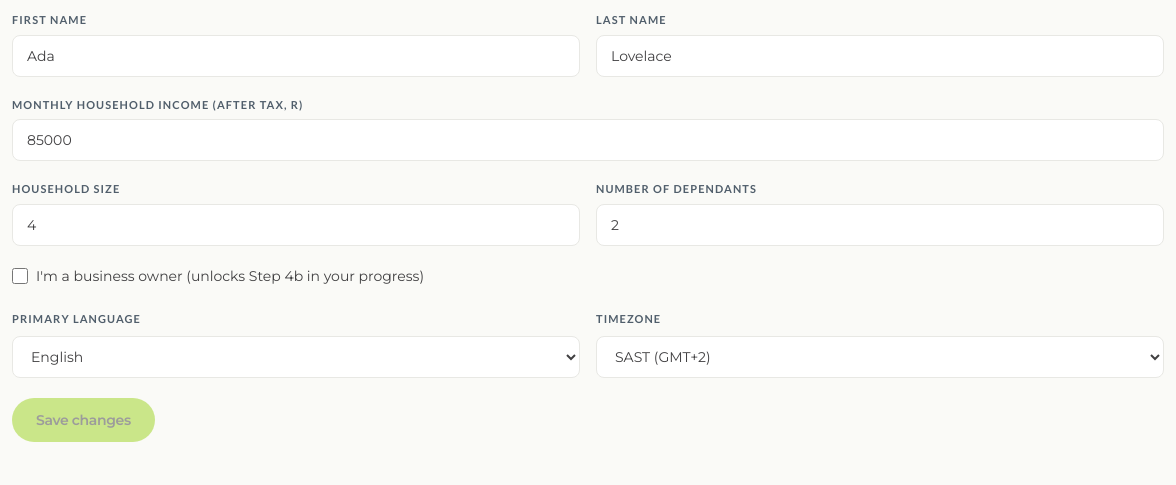
Scenario: ProfileForm › rejects an empty first_name with a validation error
Clear the field showing "Ada". click: (296, 56)
box: top-left (12, 34), bottom-right (580, 76)
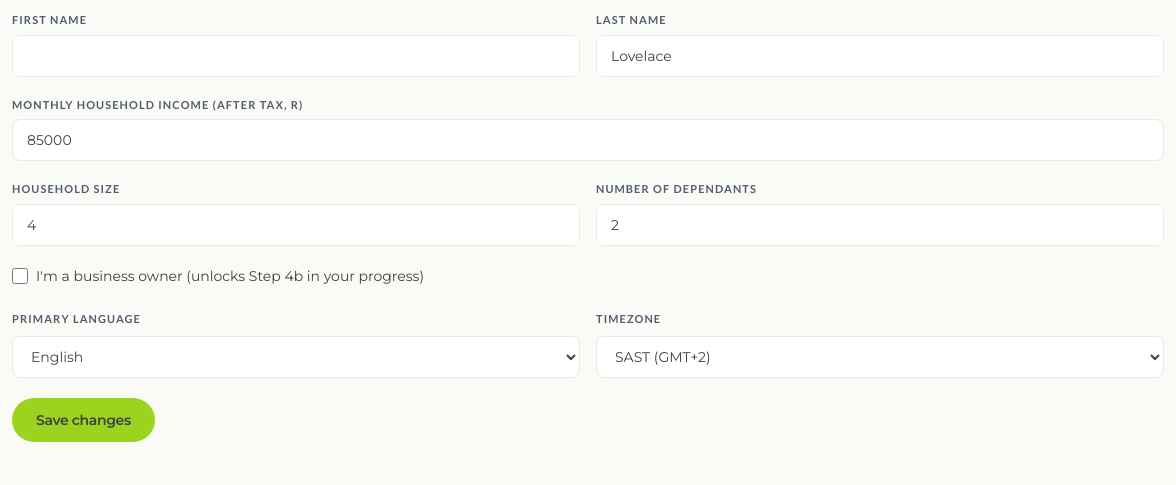
Click the button "Save changes". click: (83, 420)
box: top-left (12, 398), bottom-right (155, 442)
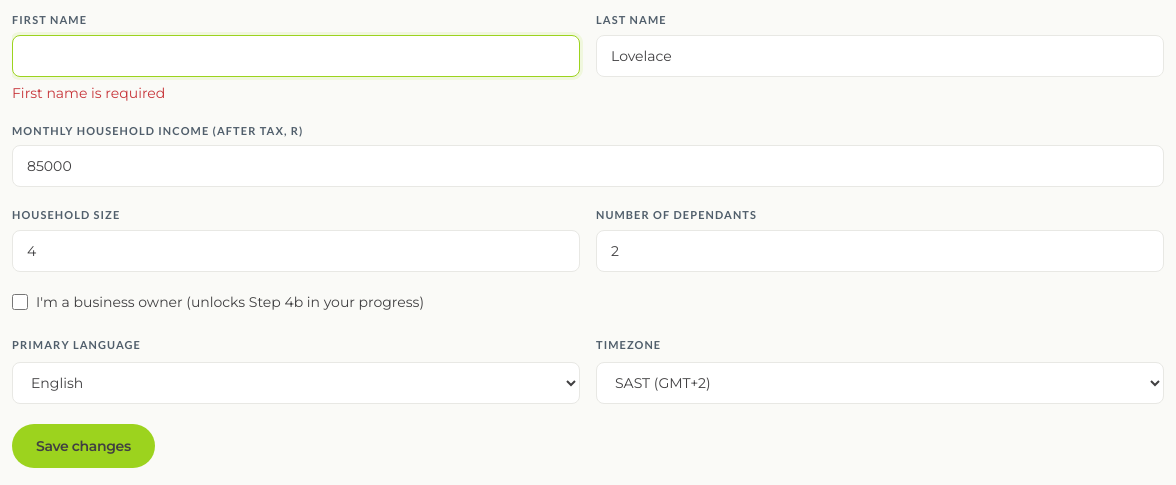
Now the text "First name is required" is shown, box top-left (12, 84), bottom-right (165, 102)
